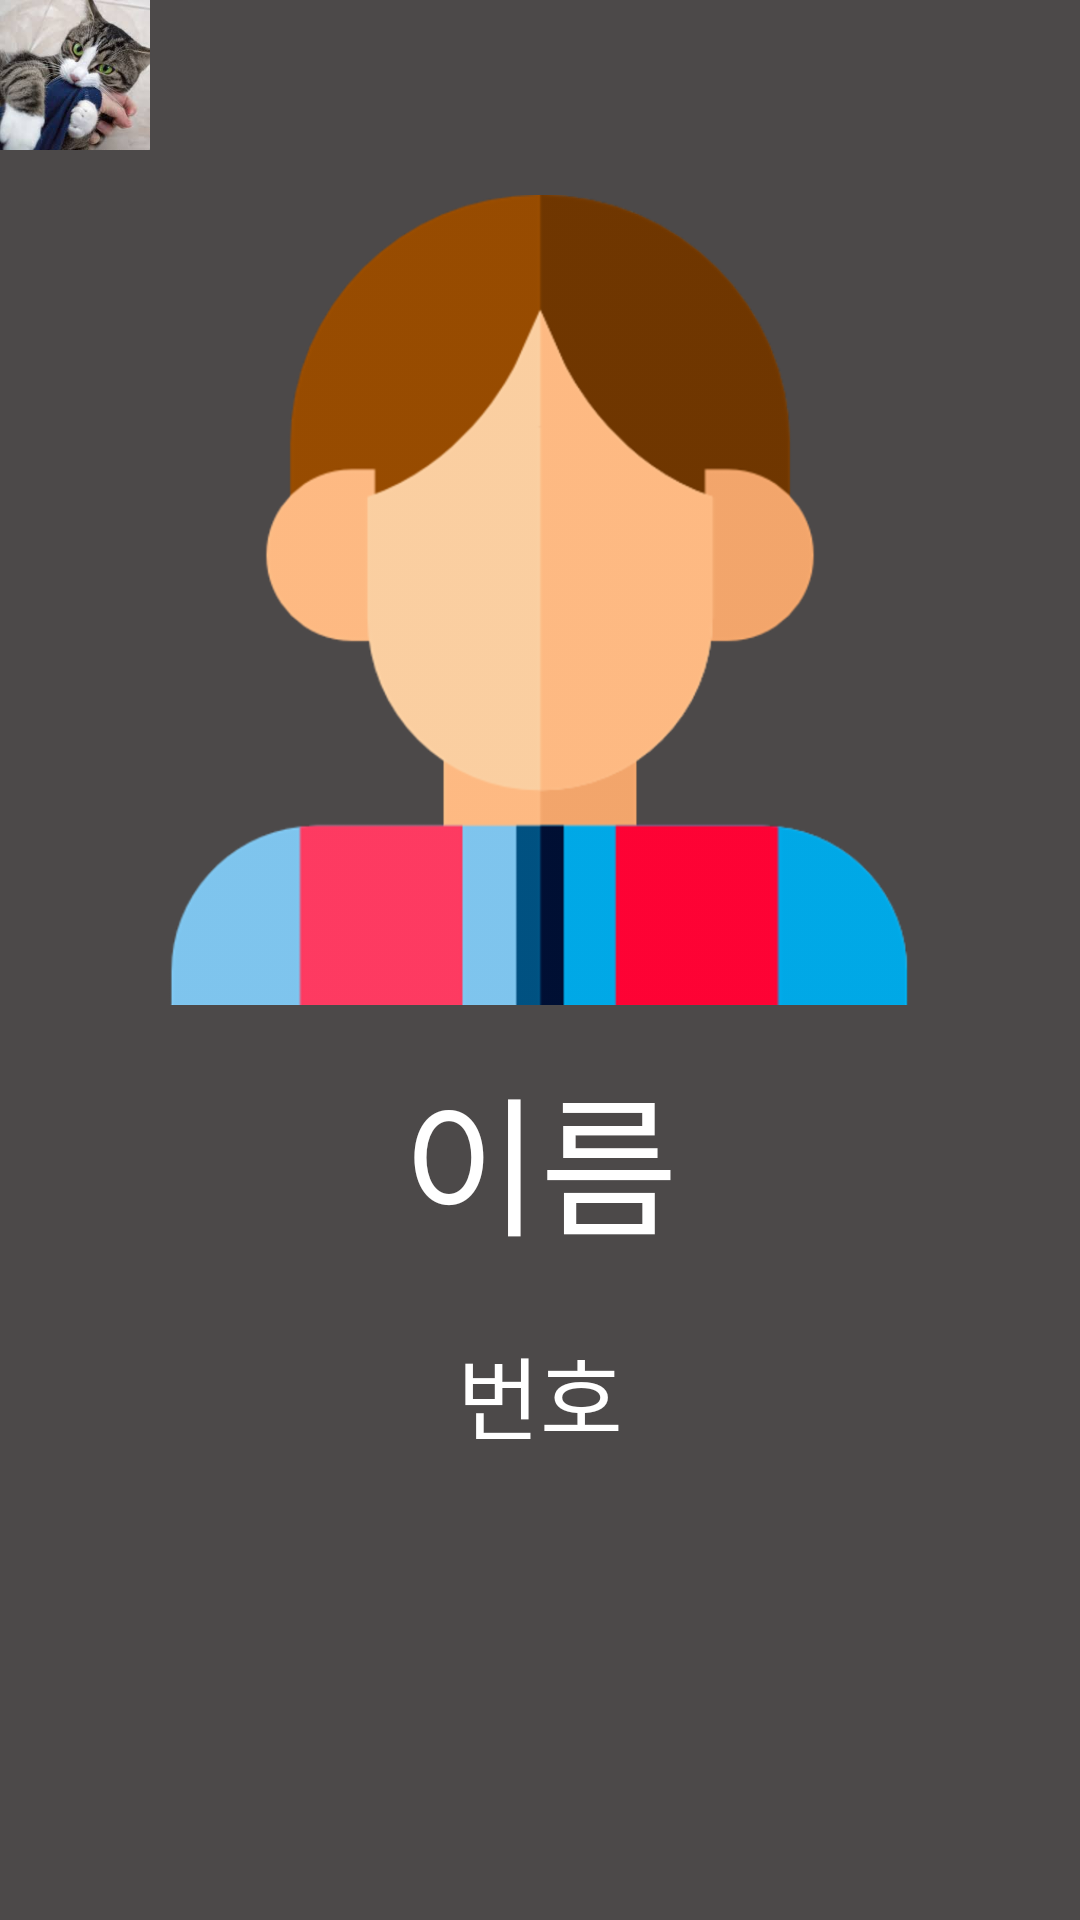

Screen size 1080×1920. Icon name, then its center in pixels as point (x, y):
cat: point (75, 75)
